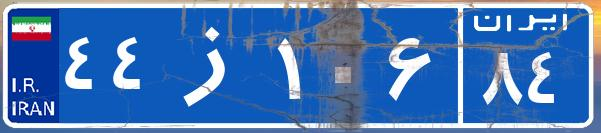0: (330, 28, 385, 110)
1: (273, 28, 330, 110)
4: (57, 26, 110, 107), (110, 28, 158, 105), (525, 38, 570, 115)
6: (385, 28, 445, 110)
8: (475, 38, 525, 113)
ز: (158, 15, 273, 115)
